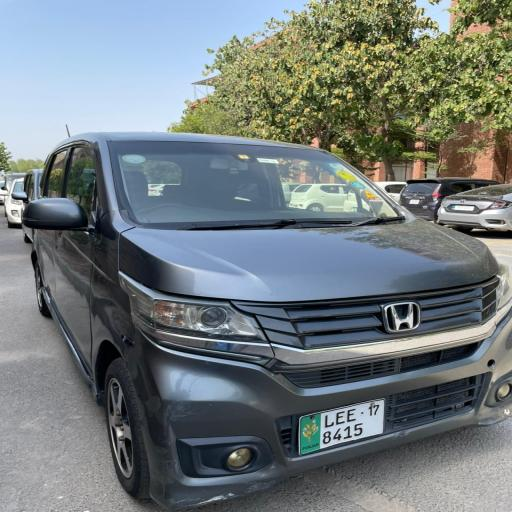bnu_sticker: (337, 171, 356, 181)
number_plate: (292, 399, 389, 445)
